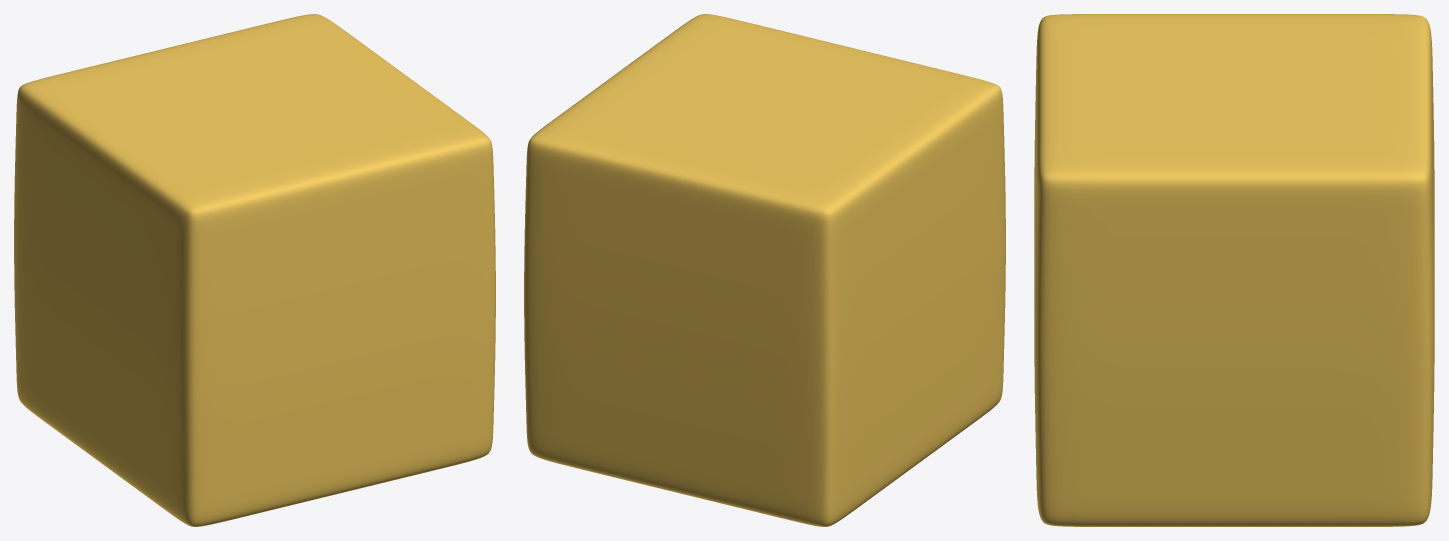
3 renders of one model, left to right at view 1: azimuth 30°, elevation 25°; view 2: azimuth 150°, elevation 25°; view 3: azimuth 270°, elevation 25°, orthographic. The views are drawn at different scales.
Parts seen in each view (by area): view 1: Cube; view 2: Cube; view 3: Cube.
Boxes of the visible parts, box(x1,y1,x2,y2) form: Cube: box(14, 14, 495, 526); Cube: box(524, 14, 1005, 526); Cube: box(1034, 14, 1434, 526).
Size of the model in its own units: 0.2373 by 0.2344 by 0.2373.
